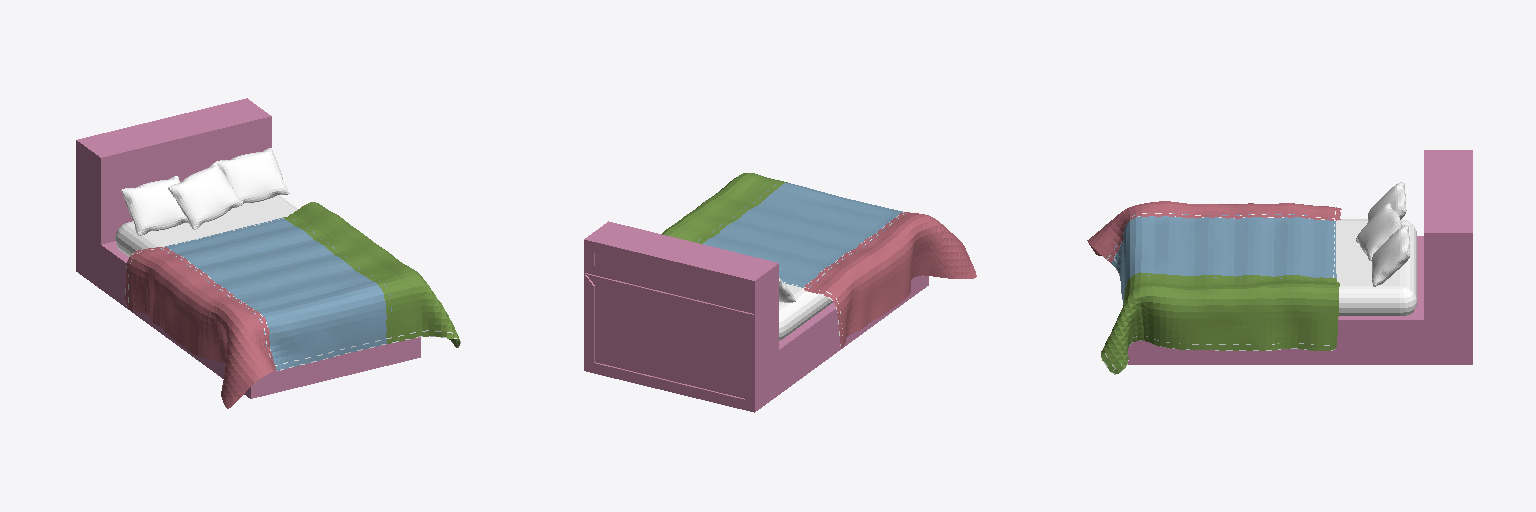
3 renders of one model, left to right at view 1: azimuth 30°, elevation 25°; view 2: azimuth 150°, elevation 25°; view 3: azimuth 270°, elevation 25°, orthographic.
Parts seen in each view (by area): view 1: polySurface4; view 2: polySurface4; view 3: polySurface4.
Part boxes in pixels (left/top/right/bottom): polySurface4: left=76, top=98, right=460, bottom=408; polySurface4: left=584, top=173, right=976, bottom=412; polySurface4: left=1087, top=150, right=1472, bottom=374.
Bounding box in the file's own units: 7.12 × 3.78 × 10.04.
Materials: 3 (3 with a texture image).